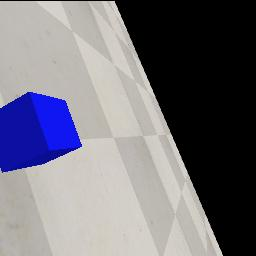box: (0, 91, 82, 173)
